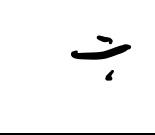div: (71, 35, 132, 81)
